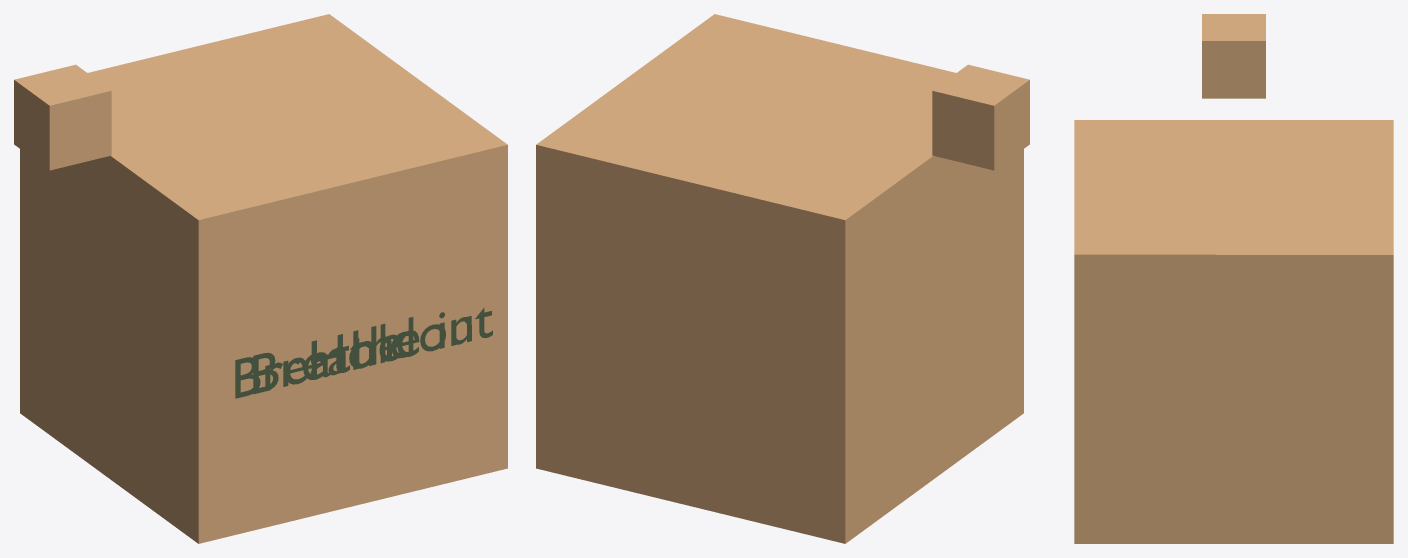
Rendered from BoxBreathing_Animation.fbx.
3 views of the same model, side by side, from view 1: azimuth 30°, elevation 25°; view 2: azimuth 150°, elevation 25°; view 3: azimuth 270°, elevation 25° (orthographic). The views are drawn at different scales.
Parts seen in each view (by area): view 1: Box, Indicator, Text - Breathe Out, Text - Breathe In, Text - Hold; view 2: Box, Indicator; view 3: Box, Indicator.
Part boxes in pixels (x1,y1,x2,y2): Box: (20, 14, 507, 543); Indicator: (14, 64, 111, 170); Text - Breathe Out: (235, 307, 492, 398); Text - Breathe In: (253, 312, 471, 394); Text - Hold: (311, 317, 413, 379); Box: (536, 14, 1023, 543); Indicator: (932, 64, 1029, 170); Box: (1074, 120, 1393, 543); Indicator: (1202, 14, 1265, 98).
Size of the model in its own units: 250 by 250 by 210.
